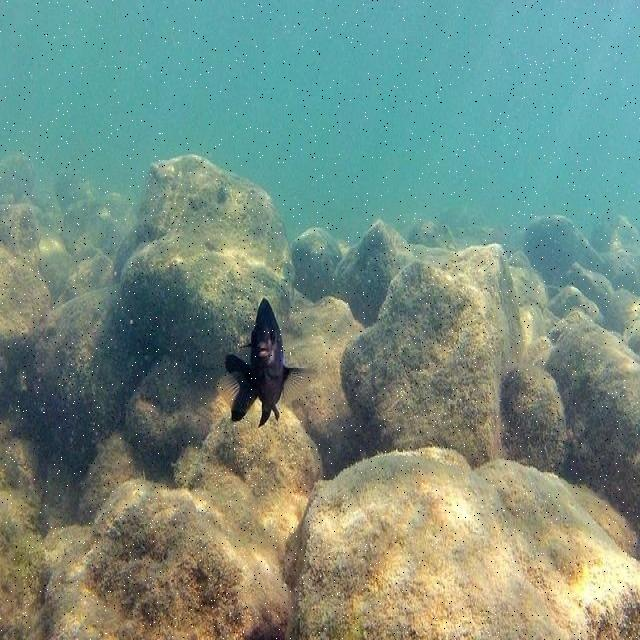fish: (219, 297, 318, 425)
sea-floor: (0, 154, 320, 639), (289, 204, 639, 524), (114, 152, 367, 478), (289, 447, 640, 640)
